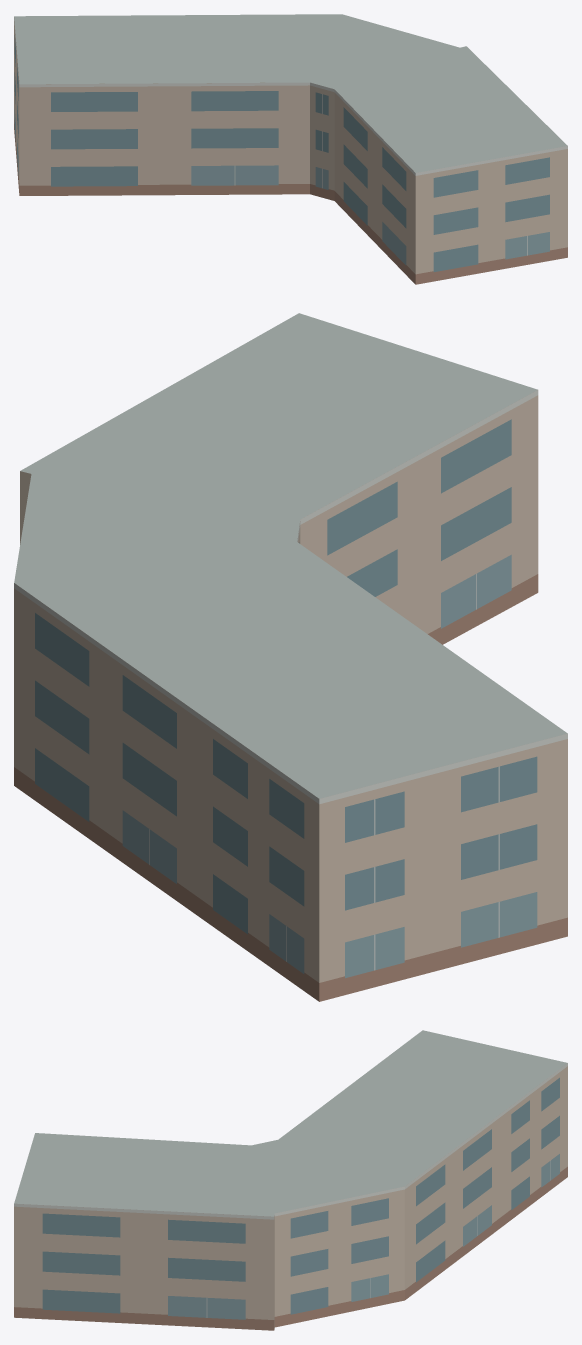
File: survey-upis-32489084.glb
3 renders of one model, top to bottom at view 1: azimuth 30°, elevation 25°; view 2: azimuth 150°, elevation 25°; view 3: azimuth 270°, elevation 25°, orthographic. The views are drawn at different scales.
Parts seen in each view (by area): view 1: survey-upis-32489084.tmp; view 2: survey-upis-32489084.tmp; view 3: survey-upis-32489084.tmp.
Boxes of the visible parts, <box> form: survey-upis-32489084.tmp: <box>14,14,567,284</box>; survey-upis-32489084.tmp: <box>14,313,567,1001</box>; survey-upis-32489084.tmp: <box>14,1030,567,1330</box>.
Bounding box in the file's own units: 32.08 × 9.15 × 40.27.
